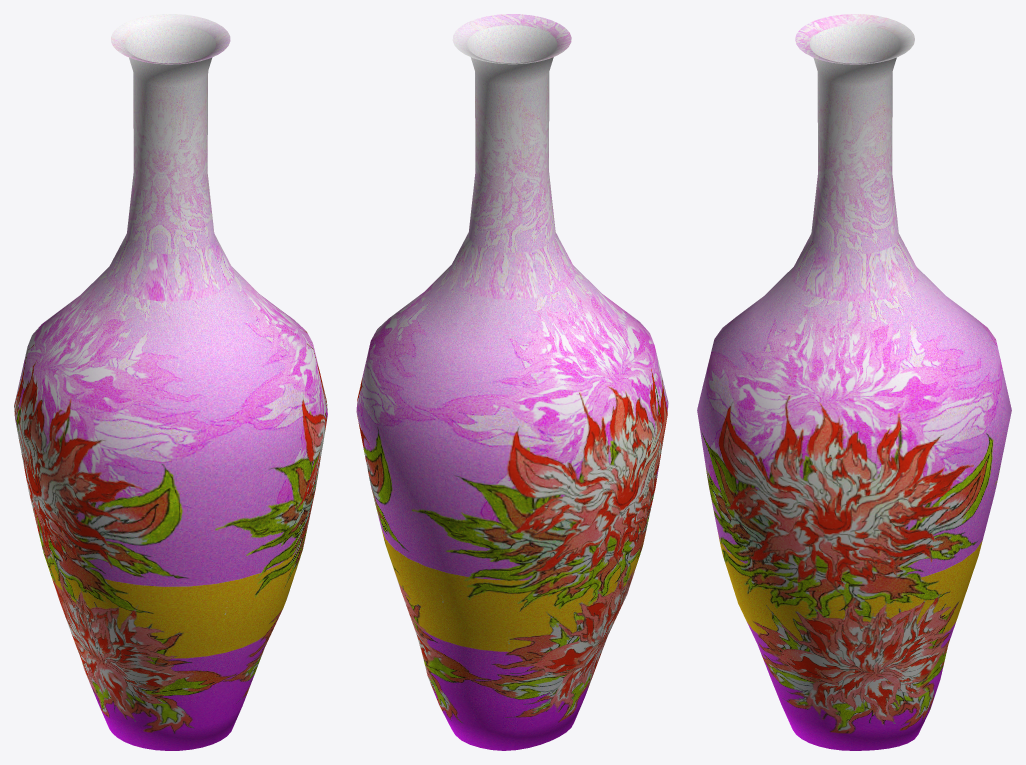
The model's file is vases.glb.
3 views of the same model, side by side, from view 1: azimuth 30°, elevation 25°; view 2: azimuth 150°, elevation 25°; view 3: azimuth 270°, elevation 25° (orthographic).
Parts seen in each view (by area): view 1: Sphere; view 2: Sphere; view 3: Sphere.
Part boxes in pixels (box(x1,y1,x2,y2)): Sphere: box(14, 14, 327, 750); Sphere: box(356, 14, 668, 750); Sphere: box(697, 14, 1011, 750).
Size of the model in its own units: 1.91 by 4.62 by 1.91.
1 material, 1 textured.
